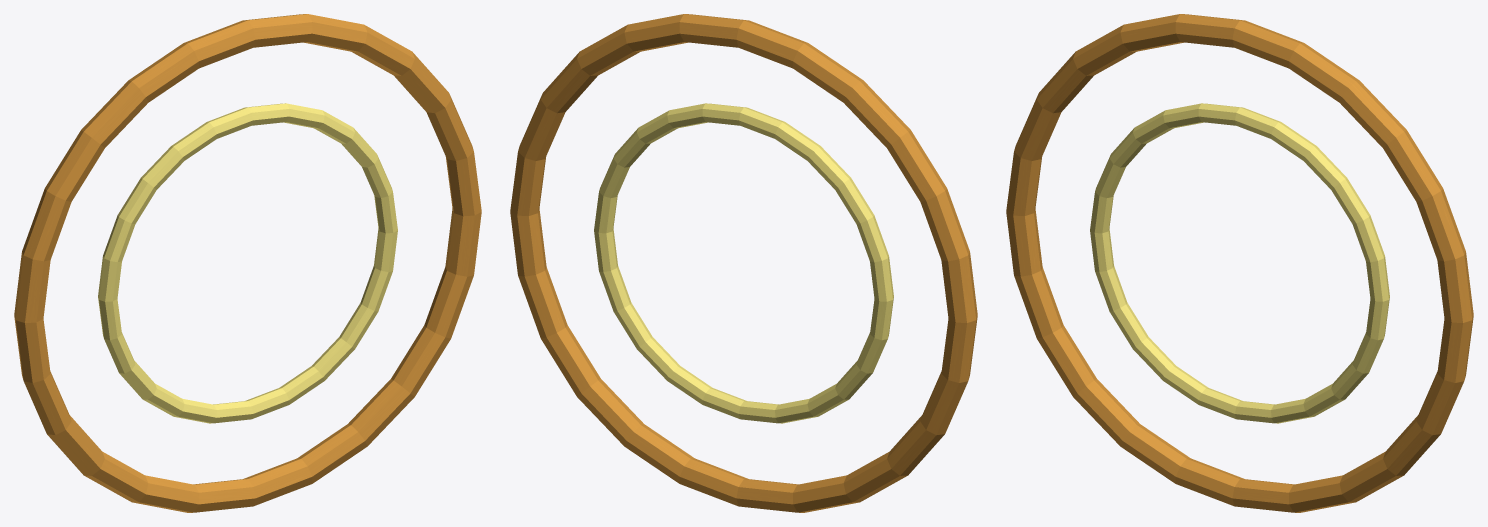
The model's file is boss-rally-aura.glb.
3 renders of one model, left to right at view 1: azimuth 30°, elevation 25°; view 2: azimuth 150°, elevation 25°; view 3: azimuth 330°, elevation 25°, orthographic.
Parts seen in each view (by area): view 1: rally-ring-outer, rally-ring-inner; view 2: rally-ring-outer, rally-ring-inner; view 3: rally-ring-outer, rally-ring-inner.
Boxes of the visible parts, box(x1,y1,x2,y2) form: rally-ring-outer: box(14, 14, 481, 512); rally-ring-inner: box(98, 103, 397, 423); rally-ring-outer: box(510, 14, 977, 512); rally-ring-inner: box(594, 103, 893, 423); rally-ring-outer: box(1006, 14, 1473, 512); rally-ring-inner: box(1090, 103, 1389, 423).
Bounding box in the file's own units: 1.06 × 1.06 × 0.06.
2 materials, 2 textured.
